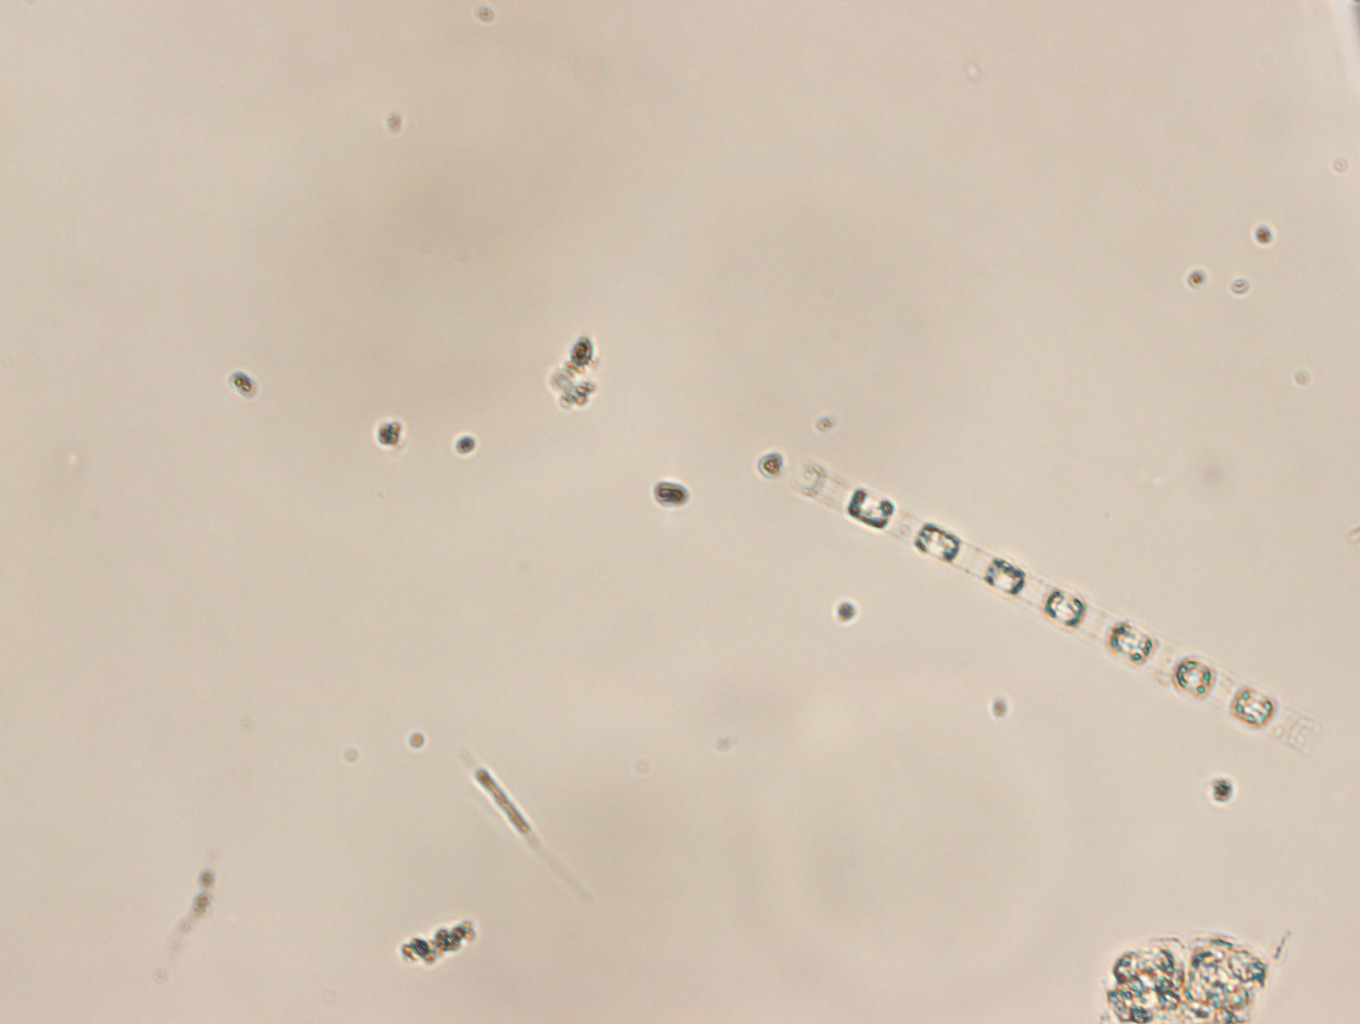skeletonema: (793, 460, 1331, 754)
